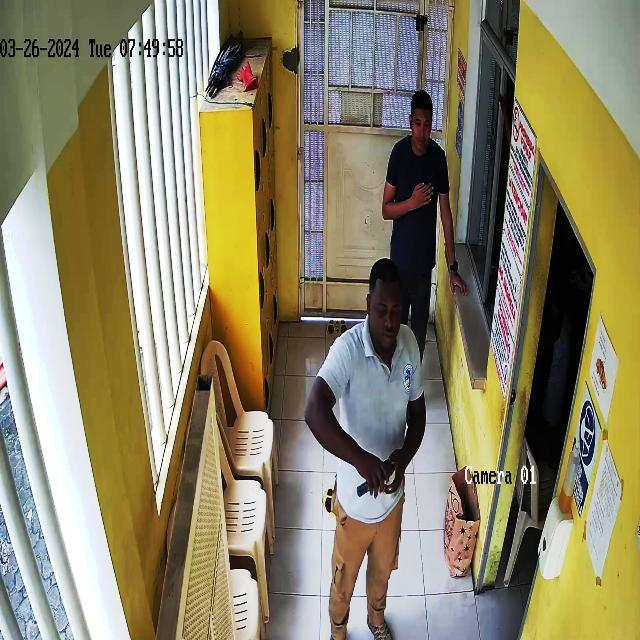Gun: (358, 437, 413, 511)
